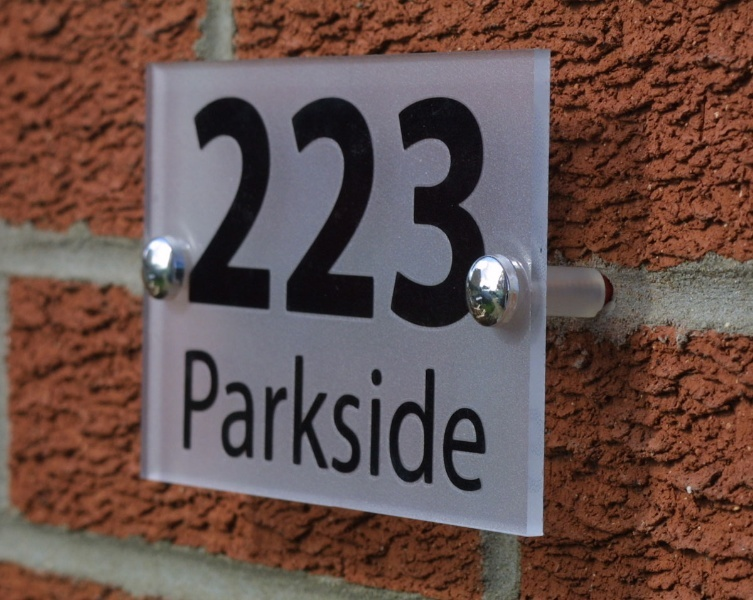text: (193, 93, 208, 336), (209, 93, 224, 336), (225, 93, 240, 336), (241, 93, 256, 336), (257, 93, 272, 336), (273, 93, 288, 336), (289, 93, 304, 336), (305, 93, 320, 336), (321, 93, 336, 336), (337, 93, 352, 336), (353, 93, 368, 336), (369, 93, 384, 336), (385, 93, 400, 336), (401, 93, 416, 336), (417, 93, 432, 336), (433, 93, 448, 336), (449, 93, 464, 336), (465, 93, 480, 336), (193, 349, 208, 498), (209, 349, 224, 498), (225, 349, 240, 498), (241, 349, 256, 498), (257, 349, 272, 498), (273, 349, 288, 498), (289, 349, 304, 498), (305, 349, 320, 498), (321, 349, 336, 498), (337, 349, 352, 498), (353, 349, 368, 498), (369, 349, 384, 498), (385, 349, 400, 498), (401, 349, 416, 498), (417, 349, 432, 498), (433, 349, 448, 498), (449, 349, 464, 498), (465, 349, 480, 498), (481, 93, 488, 336), (184, 349, 192, 498), (481, 349, 487, 498), (189, 93, 192, 336)
